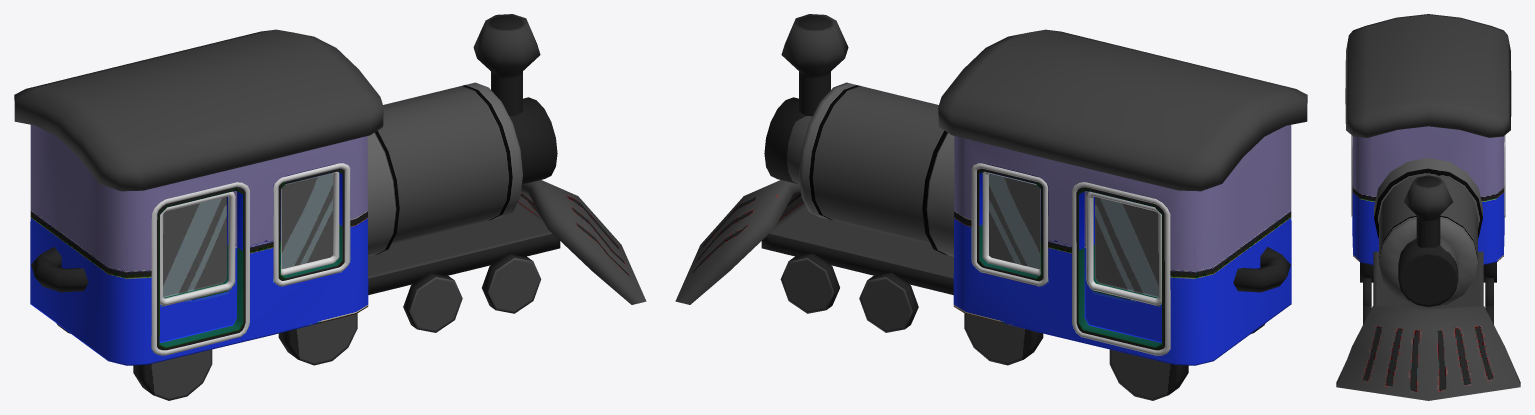
Rendered from SM_LocomotiveModelNEW 1.fbx.
3 renders of one model, left to right at view 1: azimuth 30°, elevation 25°; view 2: azimuth 150°, elevation 25°; view 3: azimuth 270°, elevation 25°, orthographic. The views are drawn at different scales.
Visible parts, largest first — view 1: SM_Locomotive, Roof, Cylinder2, Wheels, Platform, WindowFrames, Chimney, Plow, Cylinder, WindowFrames_Caster; view 2: SM_Locomotive, Roof, Cylinder2, Wheels, Platform, WindowFrames, Chimney, Plow, Cylinder, WindowFrames_Caster; view 3: Roof, Plow, SM_Locomotive, Cylinder2, Chimney, Cylinder, Platform, Wheels, WindowFrames_Caster.
Part boxes in pixels (x1,y1,x2,y2): SM_Locomotive: [30, 125, 368, 365]; Roof: [14, 29, 383, 191]; Cylinder2: [377, 82, 522, 244]; Wheels: [56, 253, 541, 400]; Platform: [368, 201, 560, 294]; WindowFrames: [151, 163, 350, 355]; Chimney: [473, 14, 557, 184]; Plow: [518, 180, 646, 304]; Cylinder: [367, 131, 399, 256]; WindowFrames_Caster: [151, 163, 350, 355]; SM_Locomotive: [953, 125, 1291, 365]; Roof: [938, 29, 1307, 191]; Cylinder2: [799, 82, 944, 244]; Wheels: [780, 253, 1265, 400]; Platform: [761, 201, 953, 294]; WindowFrames: [971, 163, 1170, 355]; Chimney: [764, 14, 848, 184]; Plow: [675, 180, 803, 304]; Cylinder: [922, 130, 954, 256]; WindowFrames_Caster: [972, 163, 1163, 352]; Roof: [1345, 14, 1511, 137]; Plow: [1336, 306, 1520, 400]; SM_Locomotive: [1352, 126, 1504, 264]; Cylinder2: [1379, 174, 1477, 307]; Chimney: [1398, 175, 1458, 306]; Cylinder: [1374, 158, 1482, 238]; Platform: [1373, 251, 1483, 309]; Wheels: [1360, 262, 1496, 324]; WindowFrames_Caster: [1351, 135, 1505, 217].
Size of the model in its own units: 127 by 56.8 by 48.21.
